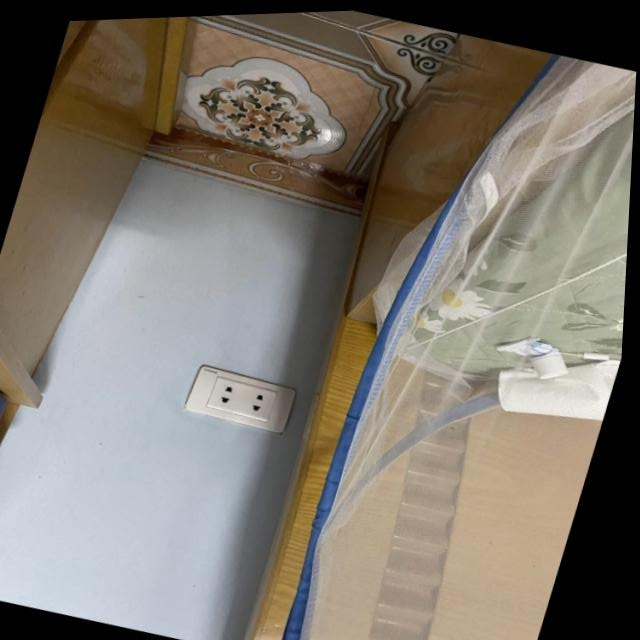outlet: (183, 359, 302, 437)
